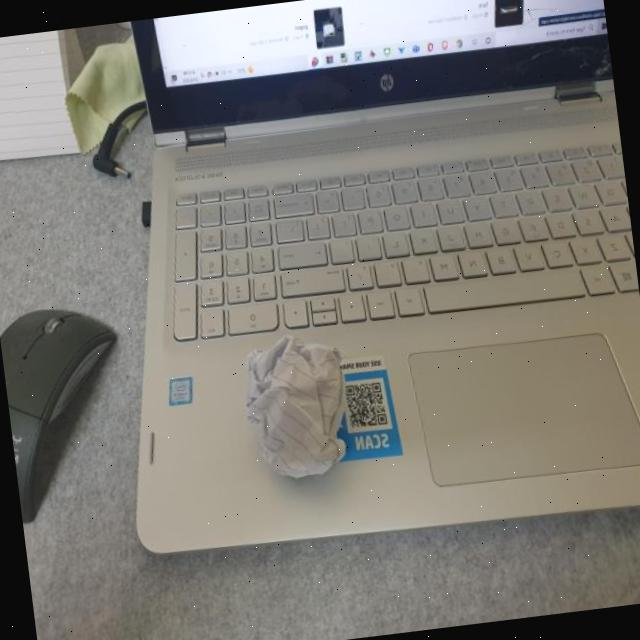trash: (226, 318, 370, 502)
